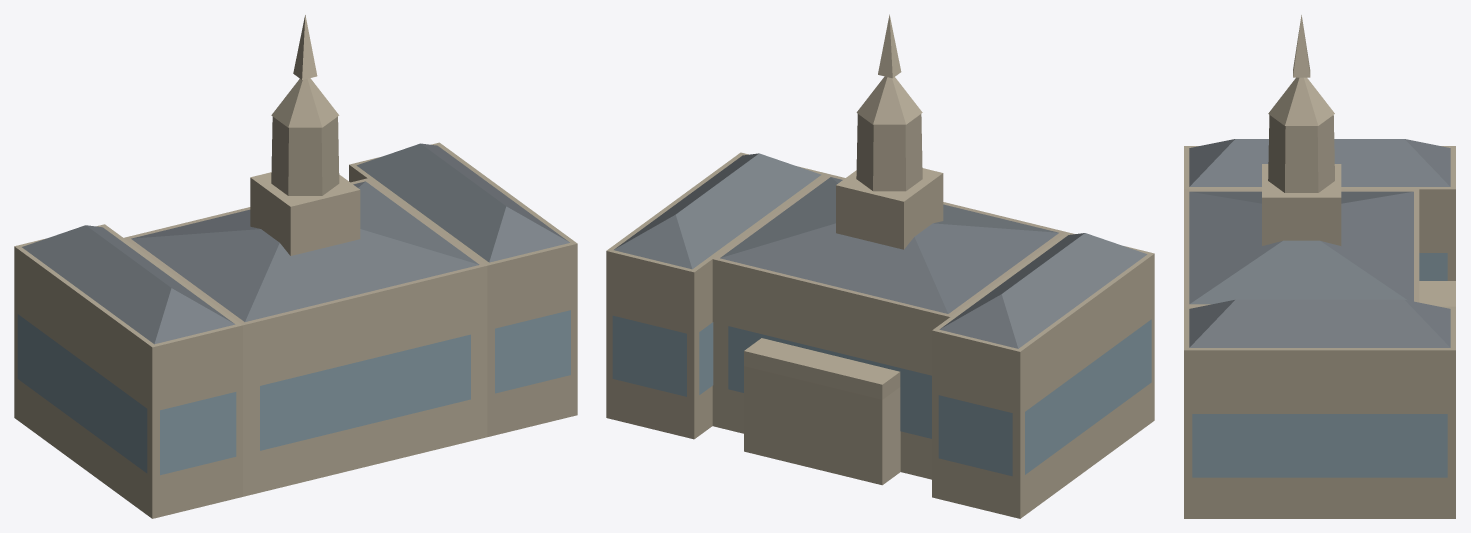
3 views of the same model, side by side, from view 1: azimuth 30°, elevation 25°; view 2: azimuth 150°, elevation 25°; view 3: azimuth 270°, elevation 25° (orthographic). The views are drawn at different scales.
Parts seen in each view (by area): view 1: city-hall-lod3; view 2: city-hall-lod3; view 3: city-hall-lod3.
Part boxes in pixels (x1,y1,x2,y2): city-hall-lod3: (14, 15, 577, 518); city-hall-lod3: (606, 14, 1154, 518); city-hall-lod3: (1184, 15, 1455, 518).
Bounding box in the file's own units: 82.5 × 75.6 × 46.55.
